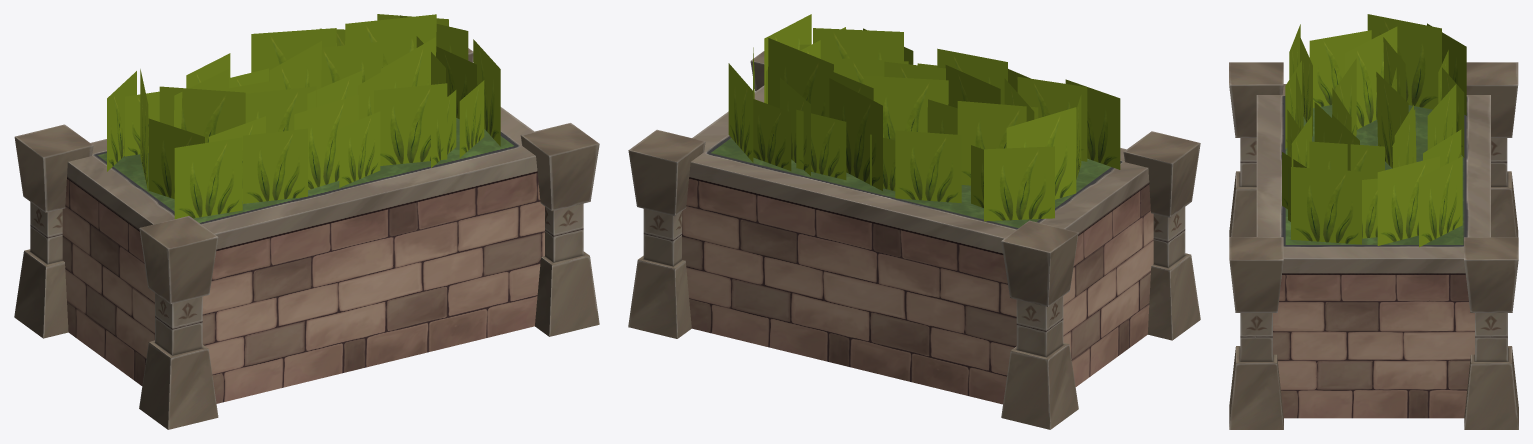
File: wallGrass_simple.fbx
3 views of the same model, side by side, from view 1: azimuth 30°, elevation 25°; view 2: azimuth 150°, elevation 25°; view 3: azimuth 270°, elevation 25° (orthographic). The views are drawn at different scales.
Parts seen in each view (by area): view 1: polySurface2489; view 2: polySurface2489; view 3: polySurface2489.
Part boxes in pixels (box(x1,y1,x2,y2)): polySurface2489: box(14, 14, 599, 429); polySurface2489: box(628, 14, 1200, 429); polySurface2489: box(1229, 14, 1518, 429).
Bounding box in the file's own units: 7.68 × 4.53 × 4.75.
